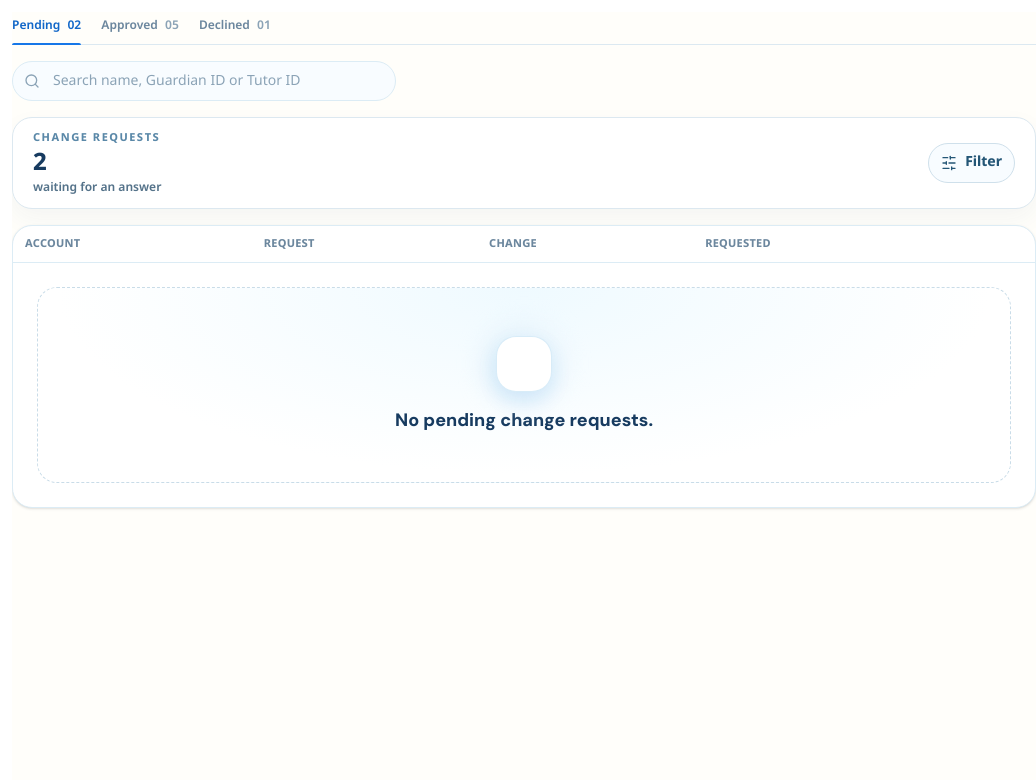
the card, search and filter panel over the Change requests › keeps Apply waiting while the dates are the wrong way round
The width and height of the screenshot is (1036, 780).
Step 1. Click the button "Filter" → [972, 163], box [928,143,1015,183]
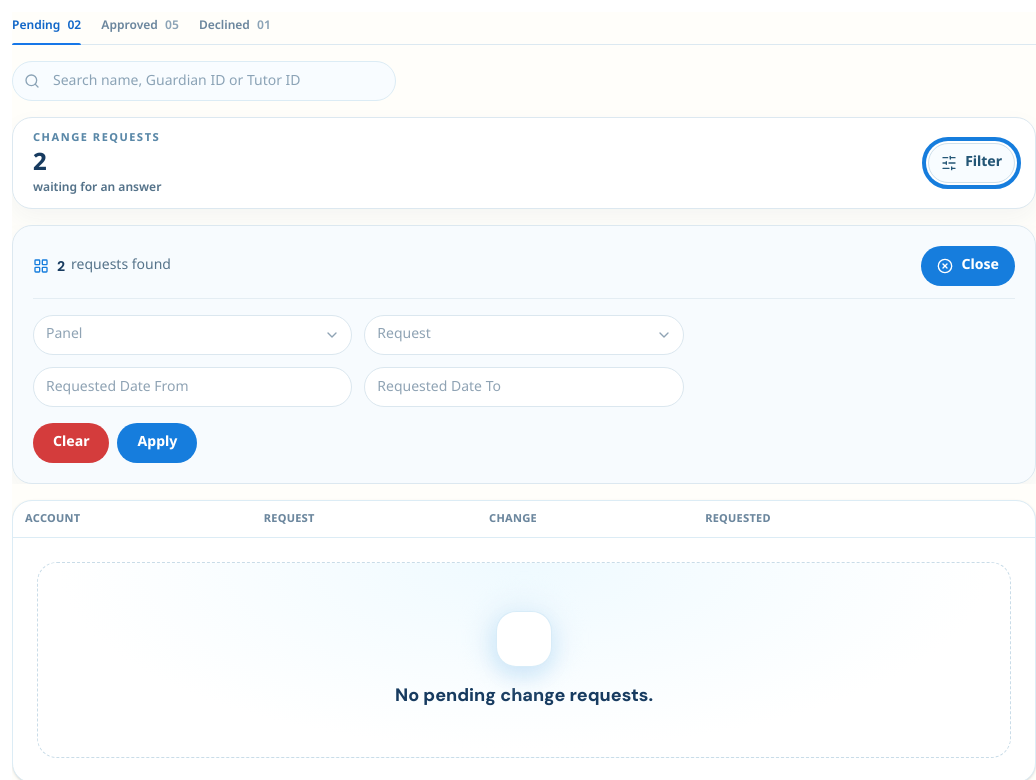
Step 2. Type "2026-09-10" into the field labelled "Requested Date From" → [193, 387], box [33,367,352,407]
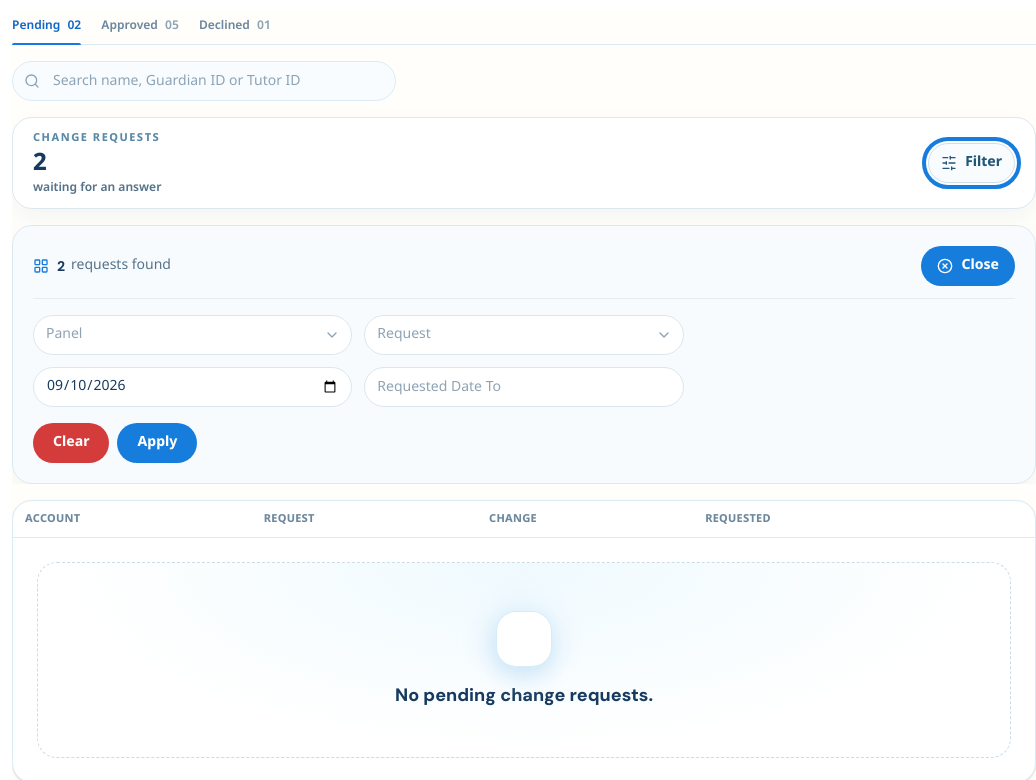
Step 3. Type "2026-09-01" into the field labelled "Requested Date To" → [524, 387], box [364,367,684,407]
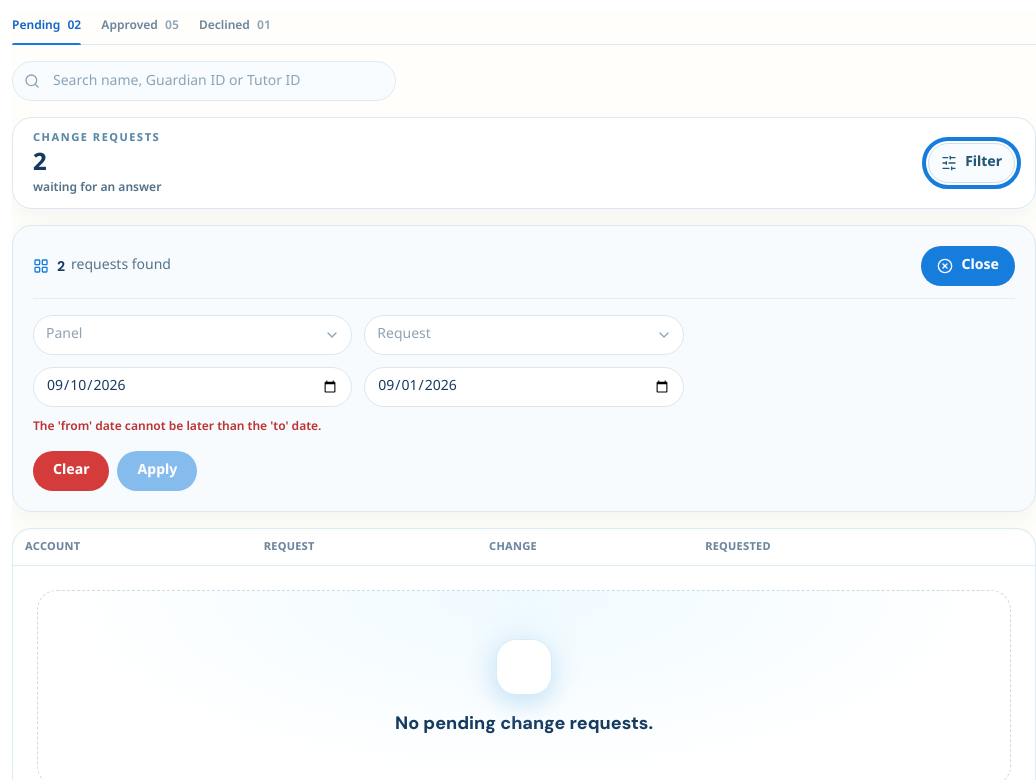
Now the text "The 'from' date cannot be later than the 'to' date." is shown, box [33,419,321,435]
Now the button "Apply" is disabled, box [118,451,197,491]
